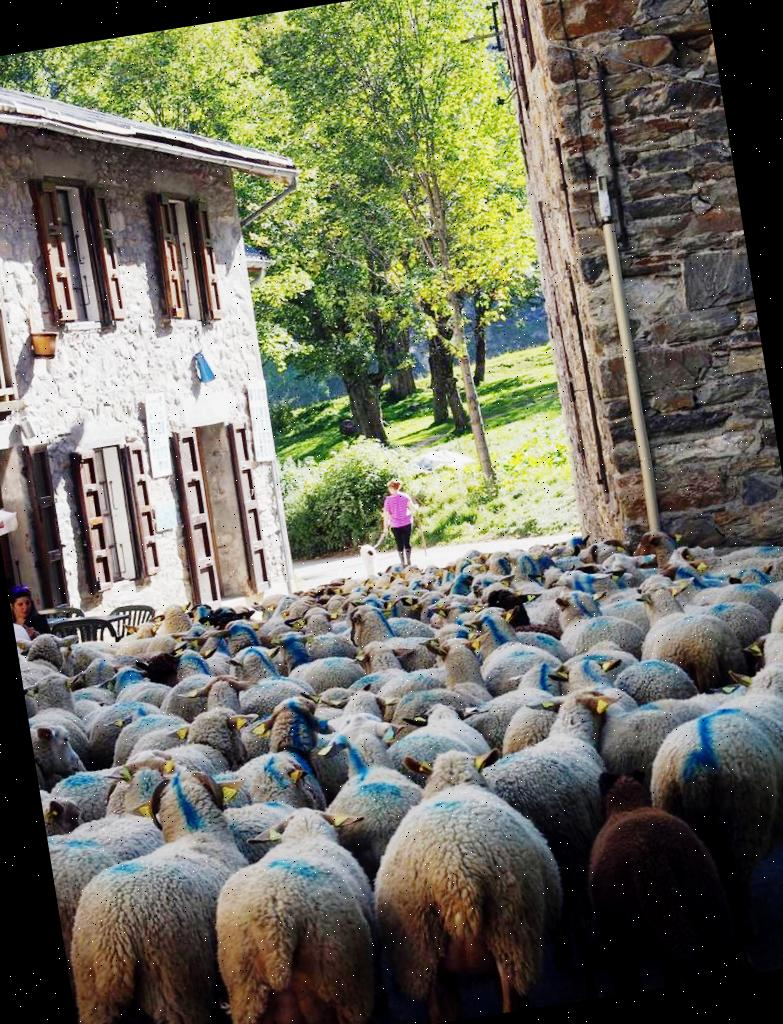Sheep: (332, 755, 595, 1024), (42, 764, 274, 1024), (192, 788, 398, 1024), (641, 634, 783, 944), (570, 748, 728, 992), (472, 679, 652, 870), (548, 622, 736, 800), (618, 558, 758, 706), (102, 698, 262, 824), (304, 696, 429, 850), (209, 690, 327, 814), (458, 592, 577, 696), (373, 628, 496, 724), (544, 575, 651, 674), (334, 591, 453, 679), (217, 628, 337, 713), (28, 713, 102, 799), (631, 520, 714, 582)
